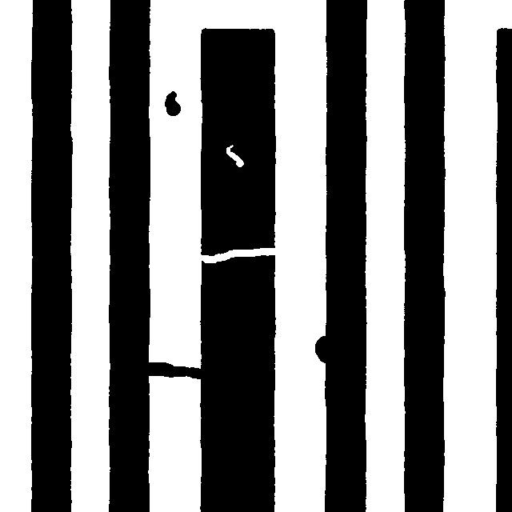copper: (157, 83, 188, 123)
open: (189, 240, 285, 270)
pin-hole: (218, 137, 251, 174)
short: (134, 354, 211, 386)
spur: (307, 328, 341, 370)
